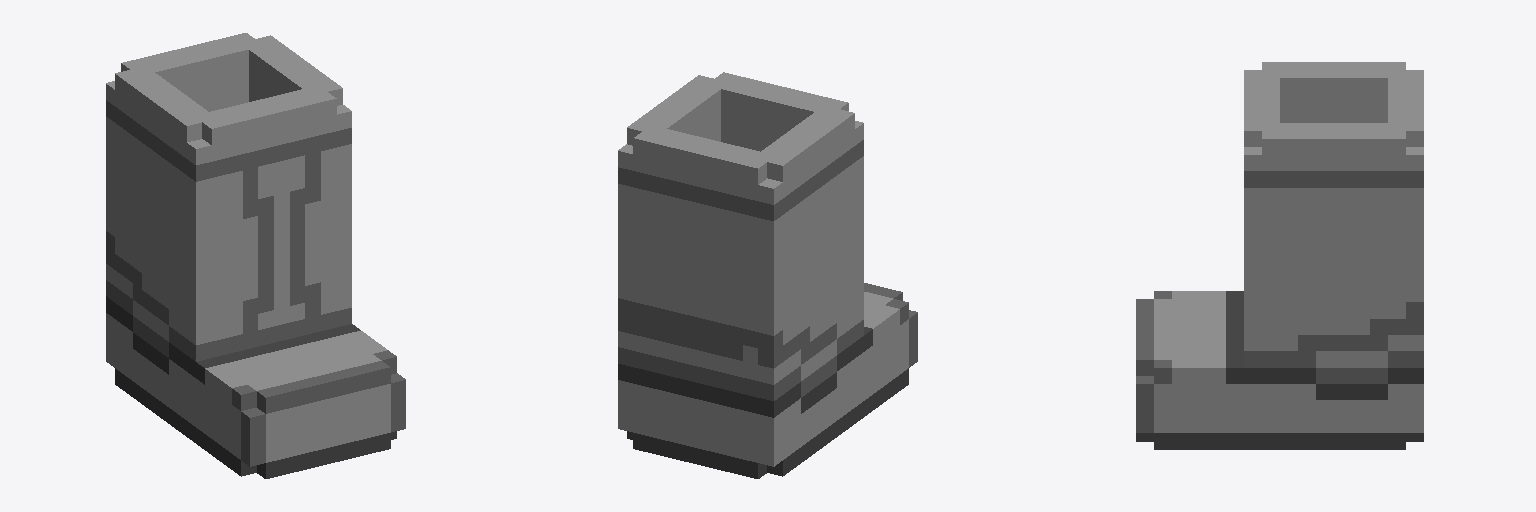
The picture shows the model from 3 angles: view 1: azimuth 30°, elevation 25°; view 2: azimuth 150°, elevation 25°; view 3: azimuth 270°, elevation 25°; orthographic projection.
Visible parts, largest first — view 1: humanoid-73; view 2: humanoid-73; view 3: humanoid-73.
Boxes of the visible parts, <box> form: humanoid-73: <box>106,33,405,478</box>; humanoid-73: <box>618,72,917,478</box>; humanoid-73: <box>1136,62,1423,449</box>.
Size of the model in its own units: 10 by 19 by 16.
1 materials, 1 textured.